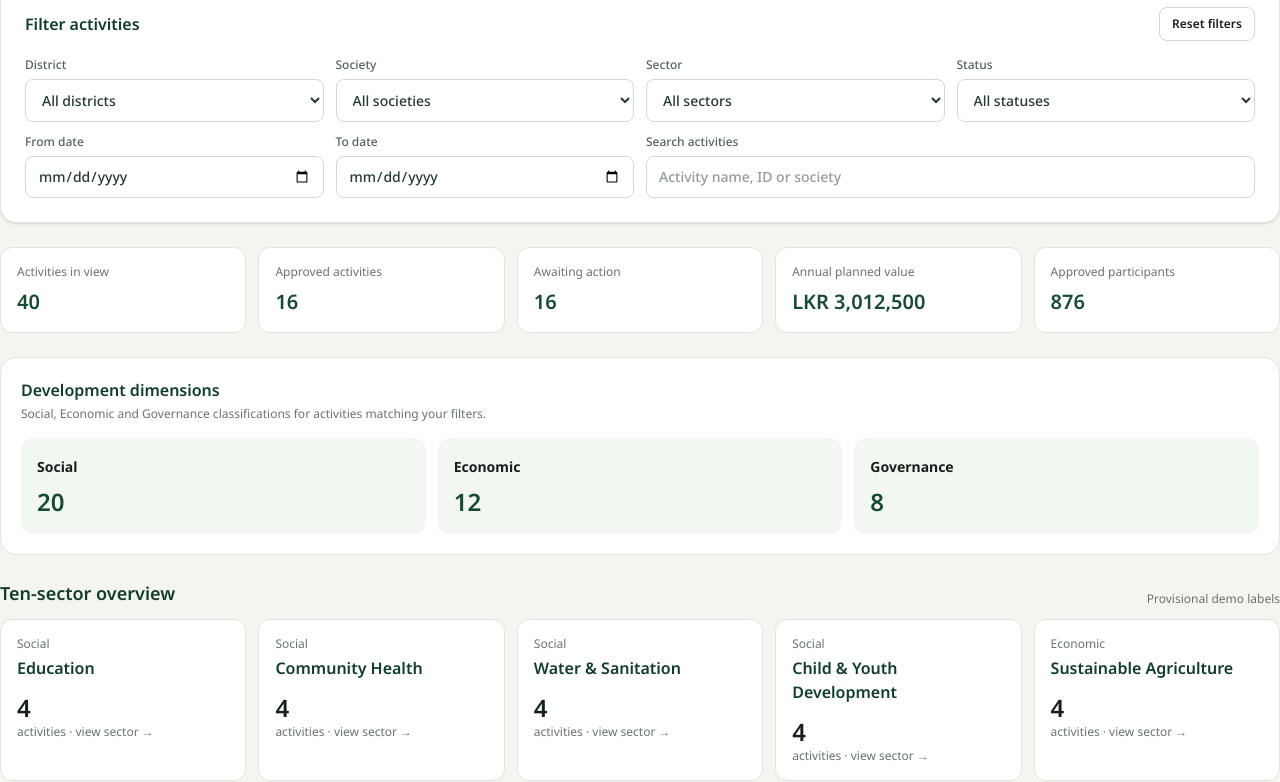
it: SC-55 activity dashboard UI › resets filters after an empty result
In the search field labelled "Search activities": (950, 177) left=646, top=156, right=1255, bottom=198, type "impossible query 12345"
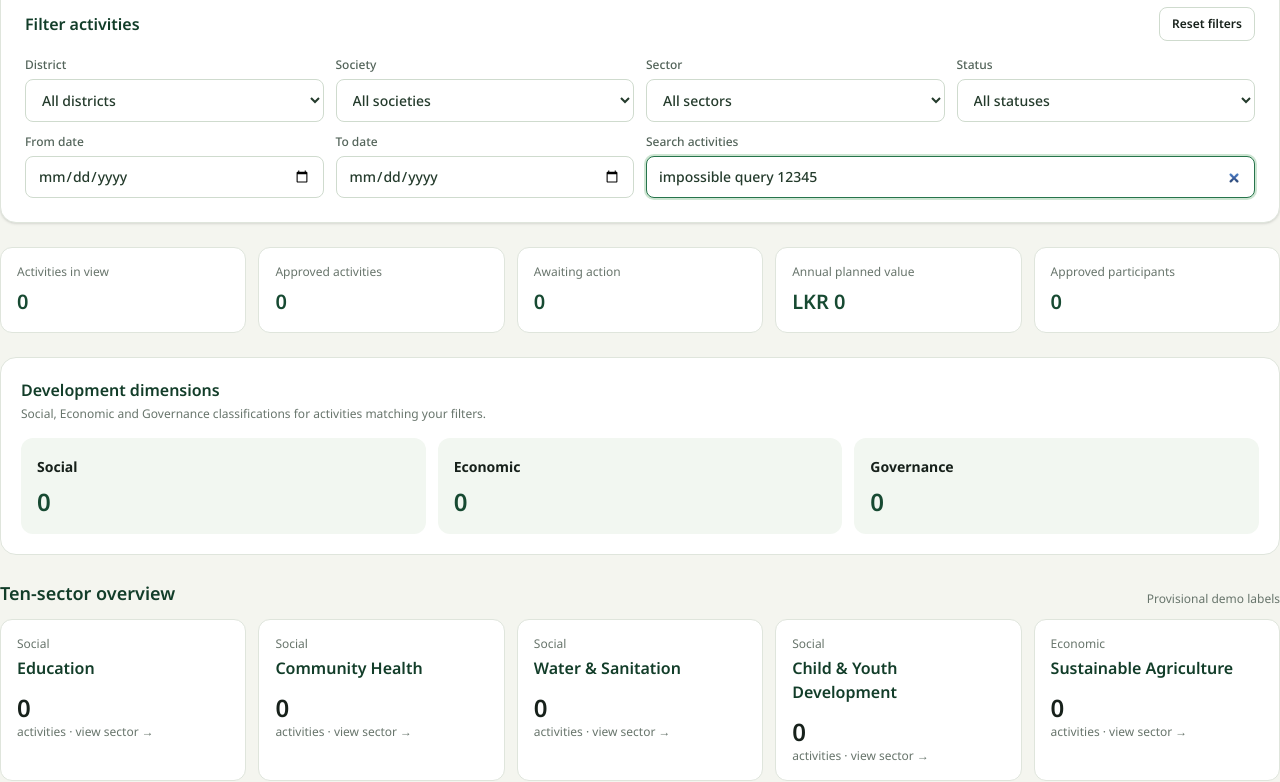
Click the button "Reset filters": (1207, 24) left=1159, top=7, right=1255, bottom=41
(page scrolled)
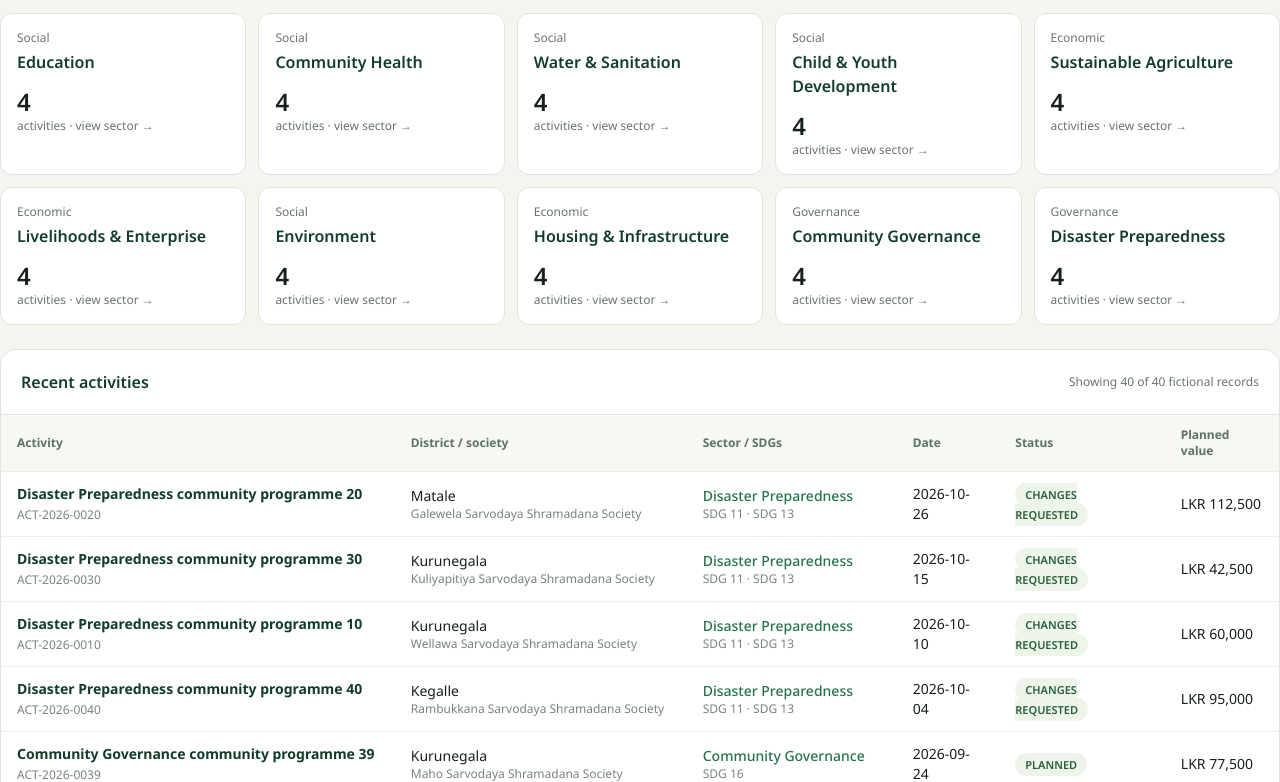
Check: the text "Showing 40 of 40 fictional records" is shown, box left=1069, top=374, right=1259, bottom=390
